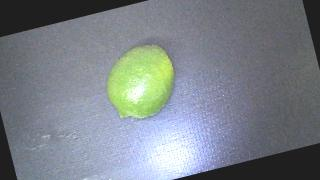EXPORTACION: (99, 40, 184, 126)
